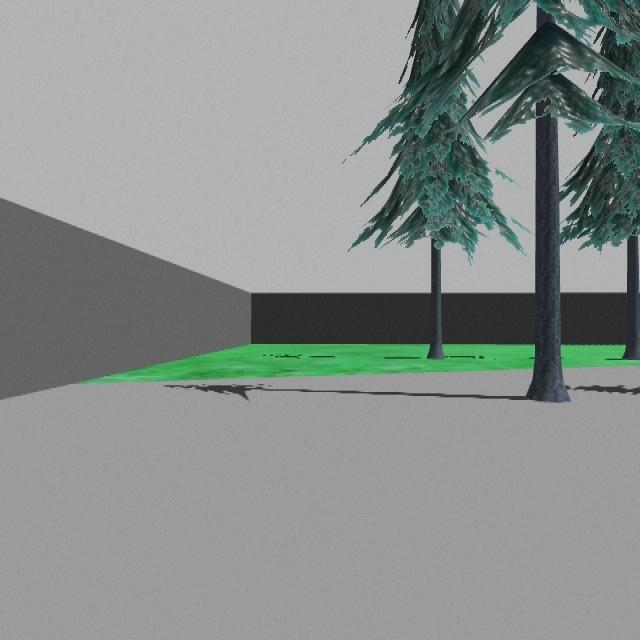tree: (449, 0, 636, 403)
